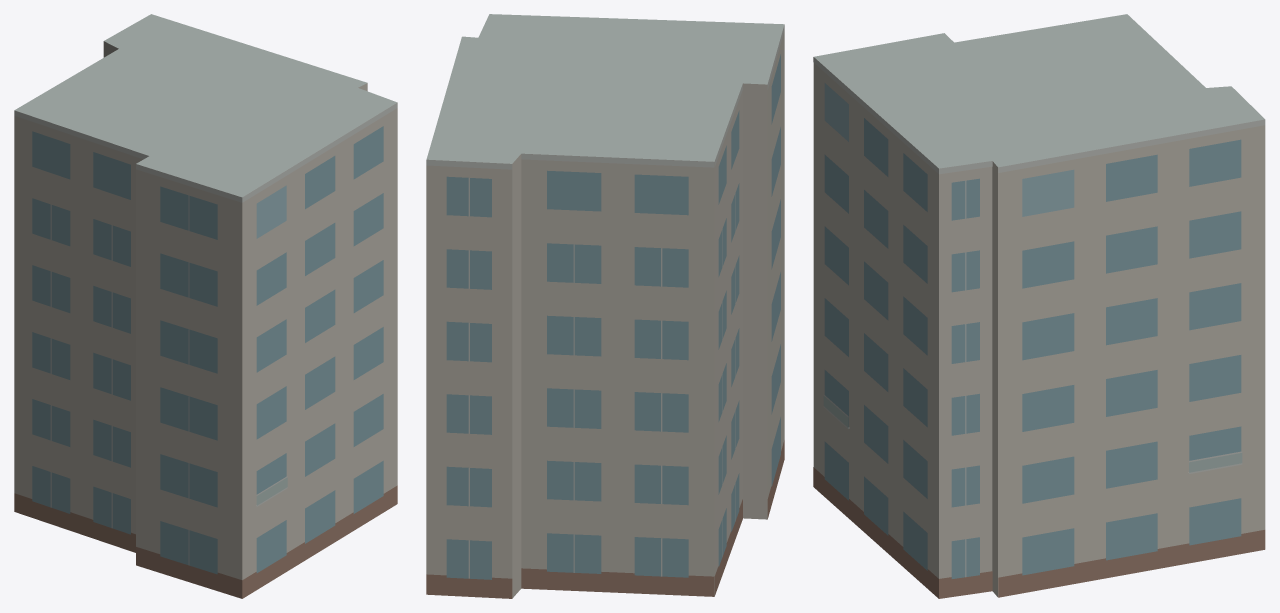
File: survey-upis-32656916.glb
The picture shows the model from 3 angles, left to right: view 1: azimuth 30°, elevation 25°; view 2: azimuth 150°, elevation 25°; view 3: azimuth 270°, elevation 25°; orthographic projection. The views are drawn at different scales.
Visible parts, largest first — view 1: survey-upis-32656916.tmp; view 2: survey-upis-32656916.tmp; view 3: survey-upis-32656916.tmp.
Boxes of the visible parts, bbox=[...] form: survey-upis-32656916.tmp: bbox=[14, 14, 397, 598]; survey-upis-32656916.tmp: bbox=[426, 14, 784, 598]; survey-upis-32656916.tmp: bbox=[813, 14, 1265, 598].
Size of the model in its own units: 14.11 by 18.3 by 17.42.
